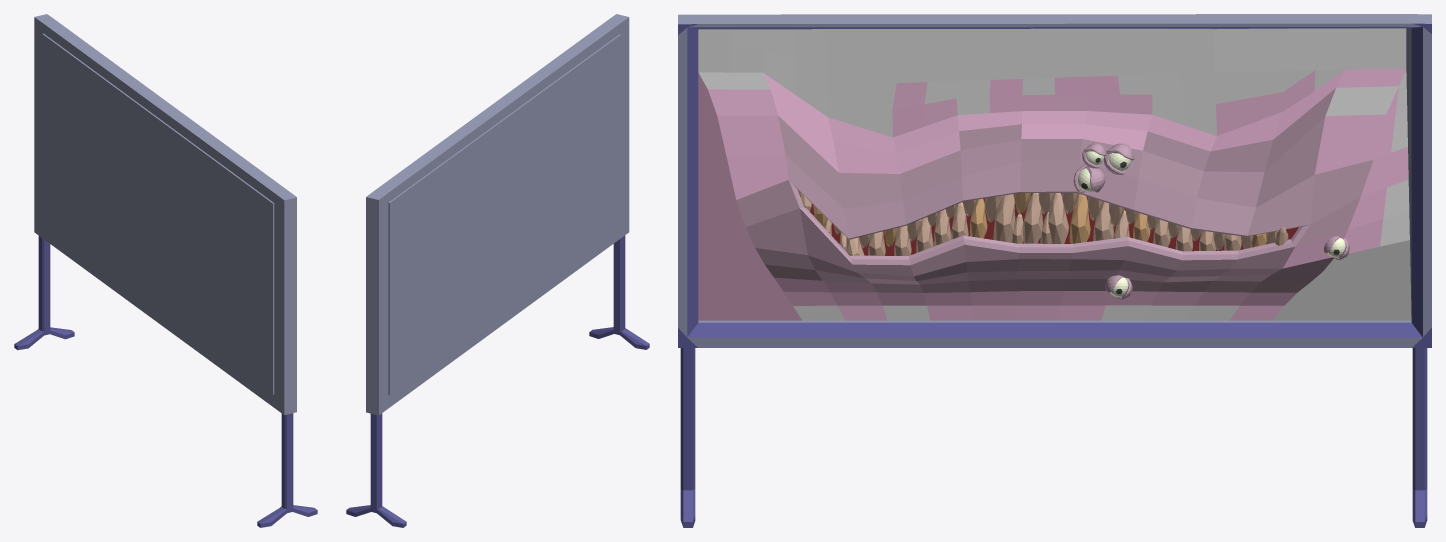
Rendered from monster_board.fbx.
3 views of the same model, side by side, from view 1: azimuth 30°, elevation 25°; view 2: azimuth 150°, elevation 25°; view 3: azimuth 270°, elevation 25° (orthographic). The views are drawn at different scales.
Parts seen in each view (by area): view 1: Cube, Cube.001, Cube.002; view 2: Cube, Cube.002, Cube.001; view 3: Cube, Cube.002, Cube.001.
Boxes of the visible parts, x1=… form: Cube: x1=34, y1=14, x2=296, y2=415; Cube.001: x1=257, y1=413, x2=317, y2=527; Cube.002: x1=14, y1=236, x2=74, y2=350; Cube: x1=366, y1=14, x2=629, y2=415; Cube.002: x1=346, y1=413, x2=406, y2=527; Cube.001: x1=589, y1=235, x2=649, y2=349; Cube: x1=678, y1=14, x2=1431, y2=347; Cube.002: x1=1412, y1=348, x2=1427, y2=527; Cube.001: x1=680, y1=348, x2=695, y2=527.
Bounding box in the file's own units: 201 × 1088 × 1523.
